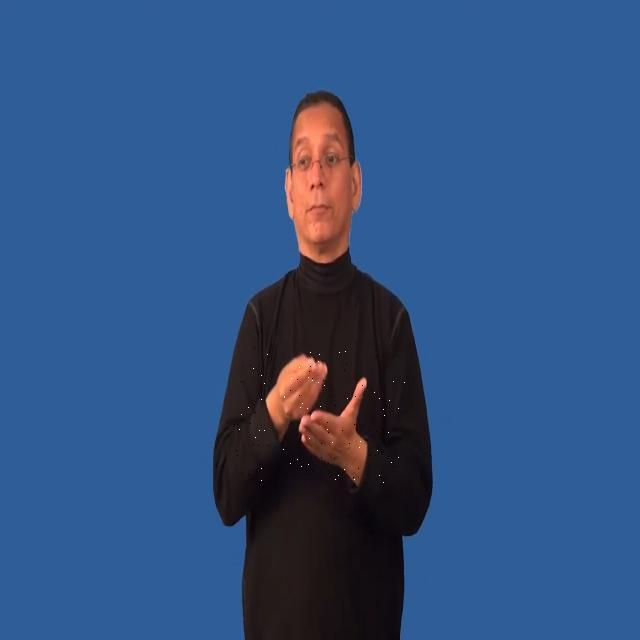coupon: (234, 348, 406, 484)
